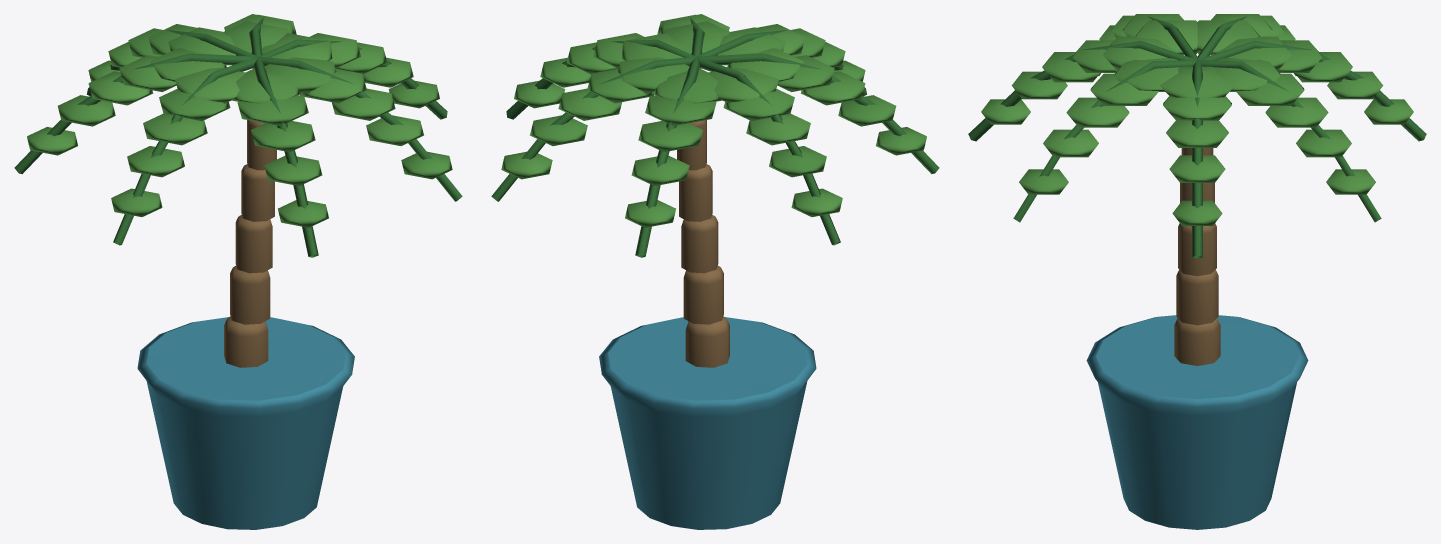
The model's file is furn_od_potted_palm.glb.
The picture shows the model from 3 angles, left to right: view 1: azimuth 30°, elevation 25°; view 2: azimuth 150°, elevation 25°; view 3: azimuth 270°, elevation 25°; orthographic projection.
Parts seen in each view (by area): view 1: furn_od_potted_palm_main; view 2: furn_od_potted_palm_main; view 3: furn_od_potted_palm_main.
Boxes of the visible parts, x1=… form: furn_od_potted_palm_main: x1=14, y1=14, x2=462, y2=529; furn_od_potted_palm_main: x1=491, y1=14, x2=939, y2=529; furn_od_potted_palm_main: x1=968, y1=14, x2=1426, y2=529.
Size of the model in its own units: 0.9674 by 1.08 by 0.9923.
